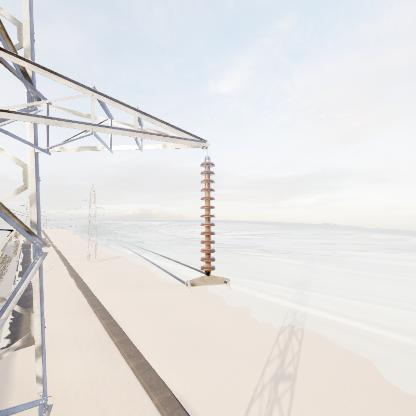insulator: (197, 156, 219, 276)
